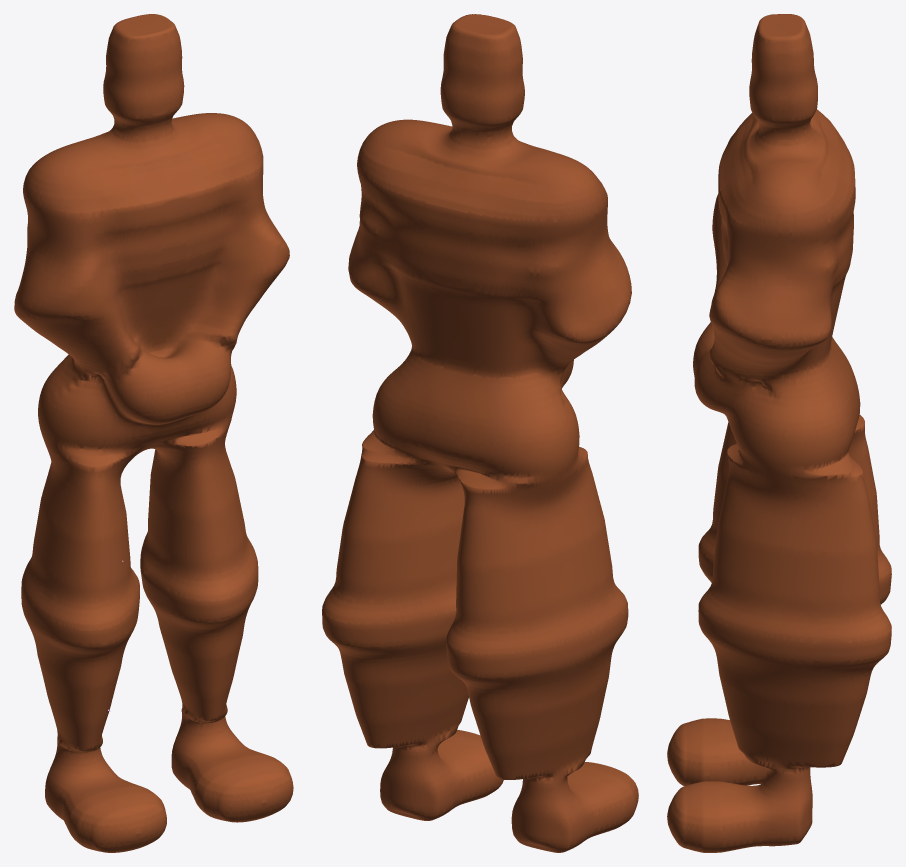
File: knight_tinted_demo.glb
3 renders of one model, left to right at view 1: azimuth 30°, elevation 25°; view 2: azimuth 150°, elevation 25°; view 3: azimuth 270°, elevation 25°, orthographic. The views are drawn at different scales.
Parts seen in each view (by area): view 1: obsidian-knight-underbody; view 2: obsidian-knight-underbody; view 3: obsidian-knight-underbody.
Boxes of the visible parts, box(x1,y1,x2,y2) form: obsidian-knight-underbody: box(14, 14, 293, 852); obsidian-knight-underbody: box(322, 14, 638, 852); obsidian-knight-underbody: box(667, 14, 891, 852).
Bounding box in the file's own units: 0.8299 × 2.41 × 0.6239.
